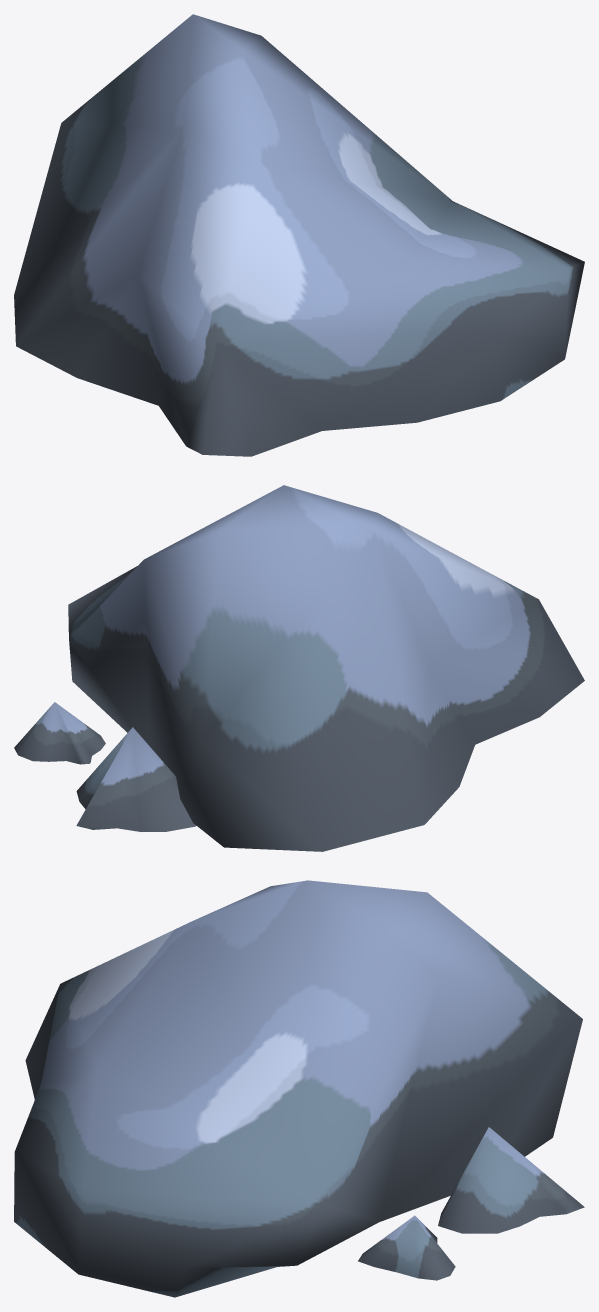
Rendered from Rock 1x 1 3_preview_3DS_simplified.glb.
The picture shows the model from 3 angles, top to bottom: view 1: azimuth 30°, elevation 25°; view 2: azimuth 150°, elevation 25°; view 3: azimuth 270°, elevation 25°; orthographic projection. The views are drawn at different scales.
Parts seen in each view (by area): view 1: Marine Park Empire model; view 2: Marine Park Empire model; view 3: Marine Park Empire model.
Boxes of the visible parts, x1,y1,x2,y2 form: Marine Park Empire model: (14,14,584,456); Marine Park Empire model: (14,485,584,851); Marine Park Empire model: (14,880,584,1297).
Size of the model in its own units: 35.03 by 20.08 by 35.69.
1 material, 1 textured.
